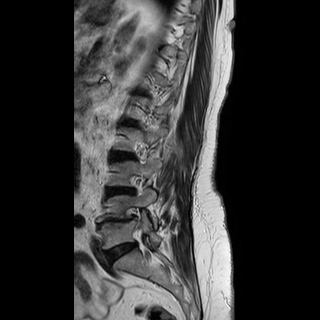LFS0: (126, 166, 150, 202)
